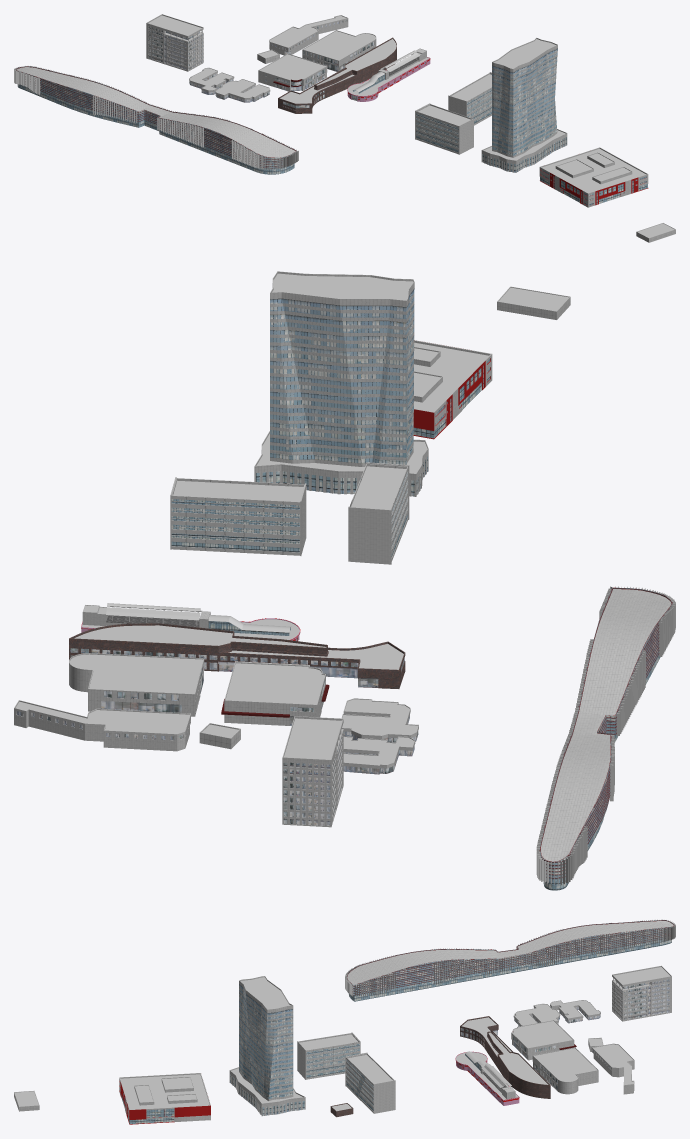
File: MODEL_HUB.FBX
3 renders of one model, top to bottom at view 1: azimuth 30°, elevation 25°; view 2: azimuth 150°, elevation 25°; view 3: azimuth 270°, elevation 25°, orthographic. The views are drawn at different scales.
Visible parts, largest first — view 1: SM_TM_Building_Marketplace_Road, SM_TM_Building_Appartments, SM_TM_Building_Arena, SM_TM_Building_Marketplace_v1, SM_TM_Building_Offices, SM_TM_Building_Facility_002, SM_TM_Building_Marketplace_v3, SM_TM_Building_Marketplace_v2, SM_TM_Monorail_Station, SM_TM_Building_Stalls, SM_TM_Building_Facility_001, SM_TM_Building_Marketplace_v4 (+1 smaller); view 2: SM_TM_Building_Appartments, SM_TM_Building_Marketplace_Road, SM_TM_Building_Marketplace_v1, SM_TM_Building_Facility_001, SM_TM_Building_Marketplace_v3, SM_TM_Building_Offices, SM_TM_Building_Marketplace_v2, SM_TM_Building_Marketplace_v4, SM_TM_Building_Arena, SM_TM_Building_Facility_002, SM_TM_Building_Stalls, SM_TM_Monorail_Station (+1 smaller); view 3: SM_TM_Building_Marketplace_Road, SM_TM_Building_Appartments, SM_TM_Building_Arena, SM_TM_Building_Offices, SM_TM_Building_Marketplace_v1, SM_TM_Building_Facility_001, SM_TM_Building_Facility_002, SM_TM_Building_Marketplace_v3, SM_TM_Building_Marketplace_v2, SM_TM_Monorail_Station, SM_TM_Building_Stalls, SM_TM_Building_Marketplace_v4 (+1 smaller).
Part boxes in pixels (<box>): SM_TM_Building_Marketplace_Road: <box>14,66,298,174</box>; SM_TM_Building_Appartments: <box>481,37,567,172</box>; SM_TM_Building_Arena: <box>539,147,648,207</box>; SM_TM_Building_Marketplace_v1: <box>278,37,396,113</box>; SM_TM_Building_Offices: <box>146,14,203,71</box>; SM_TM_Building_Facility_002: <box>415,103,473,154</box>; SM_TM_Building_Marketplace_v3: <box>302,30,376,71</box>; SM_TM_Building_Marketplace_v2: <box>258,53,327,91</box>; SM_TM_Monorail_Station: <box>347,48,430,101</box>; SM_TM_Building_Stalls: <box>189,67,270,102</box>; SM_TM_Building_Facility_001: <box>448,72,491,125</box>; SM_TM_Building_Marketplace_v4: <box>269,15,348,55</box>; SM_TM_Building_Appartments: <box>254,271,428,496</box>; SM_TM_Building_Marketplace_Road: <box>536,586,675,890</box>; SM_TM_Building_Marketplace_v1: <box>69,623,405,688</box>; SM_TM_Building_Facility_001: <box>170,477,306,555</box>; SM_TM_Building_Marketplace_v3: <box>69,653,204,716</box>; SM_TM_Building_Offices: <box>282,716,343,827</box>; SM_TM_Building_Marketplace_v2: <box>221,661,329,725</box>; SM_TM_Building_Marketplace_v4: <box>14,700,190,751</box>; SM_TM_Building_Arena: <box>413,340,492,439</box>; SM_TM_Building_Facility_002: <box>348,462,409,564</box>; SM_TM_Building_Stalls: <box>341,698,418,774</box>; SM_TM_Monorail_Station: <box>81,603,300,640</box>; SM_TM_Building_Marketplace_Road: <box>345,919,675,1001</box>; SM_TM_Building_Appartments: <box>229,976,305,1116</box>; SM_TM_Building_Arena: <box>119,1073,210,1124</box>; SM_TM_Building_Offices: <box>612,965,671,1021</box>; SM_TM_Building_Marketplace_v1: <box>460,1016,550,1098</box>; SM_TM_Building_Facility_001: <box>345,1052,395,1113</box>; SM_TM_Building_Facility_002: <box>297,1032,360,1079</box>; SM_TM_Building_Marketplace_v3: <box>532,1047,598,1094</box>; SM_TM_Building_Marketplace_v2: <box>511,1020,576,1060</box>; SM_TM_Monorail_Station: <box>455,1051,519,1105</box>; SM_TM_Building_Stalls: <box>513,1000,600,1026</box>; SM_TM_Building_Marketplace_v4: <box>591,1043,634,1094</box>.
Bounding box in the file's own units: 346 × 88.93 × 517.
